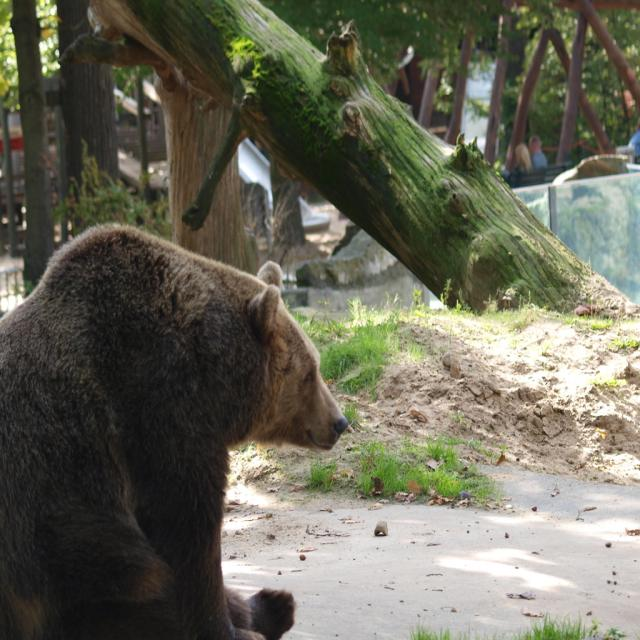Cheetahs: (0, 222, 349, 638)
